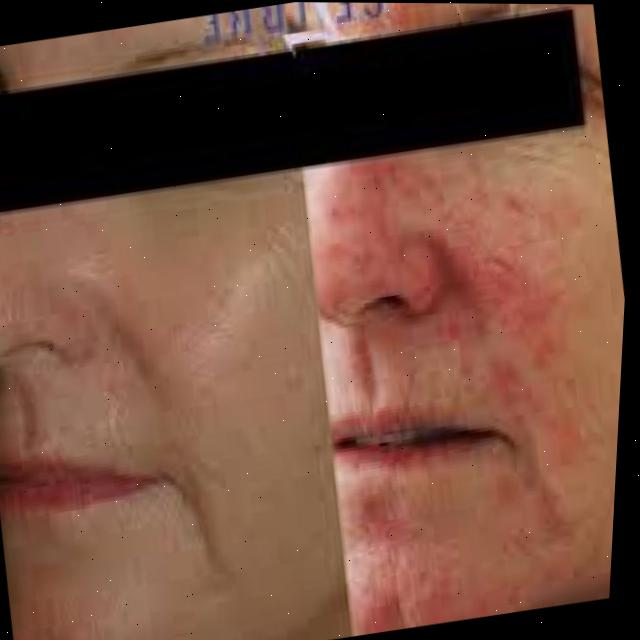Rosacea: (425, 182, 613, 477), (337, 465, 487, 636), (311, 146, 449, 297)
